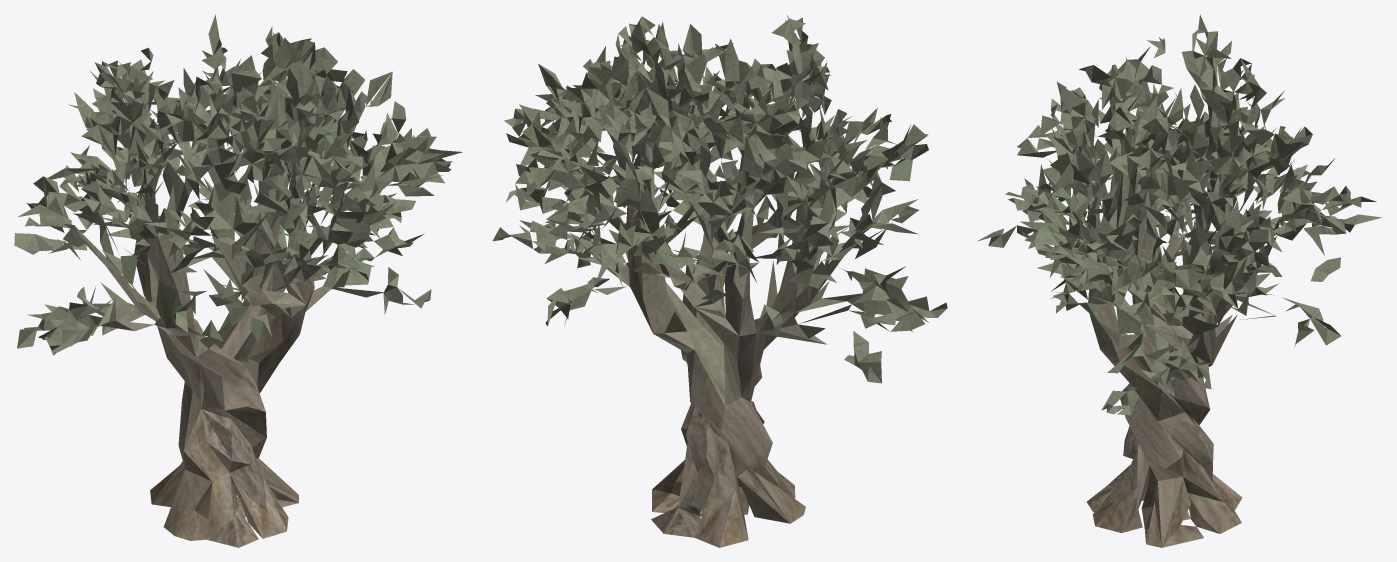
The model's file is tree_olive.glb.
The picture shows the model from 3 angles, left to right: view 1: azimuth 30°, elevation 25°; view 2: azimuth 150°, elevation 25°; view 3: azimuth 270°, elevation 25°; orthographic projection. The views are drawn at different scales.
Parts seen in each view (by area): view 1: Mesh_0; view 2: Mesh_0; view 3: Mesh_0.
Part boxes in pixels (x1,y1,x2,y2): Mesh_0: [14, 14, 462, 547]; Mesh_0: [492, 15, 947, 547]; Mesh_0: [977, 14, 1382, 547].
Bounding box in the file's own units: 4.61 × 5 × 4.12.
1 material, 1 textured.
